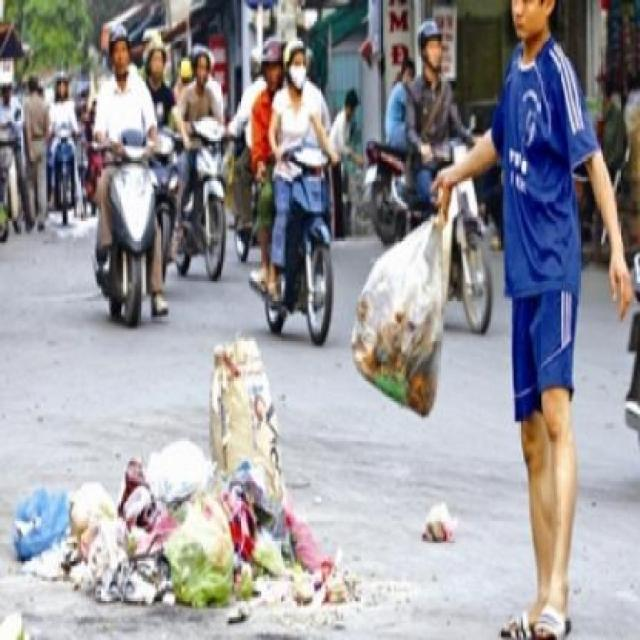plastic bag: (12, 332, 357, 637), (354, 184, 460, 418), (418, 490, 460, 548)
